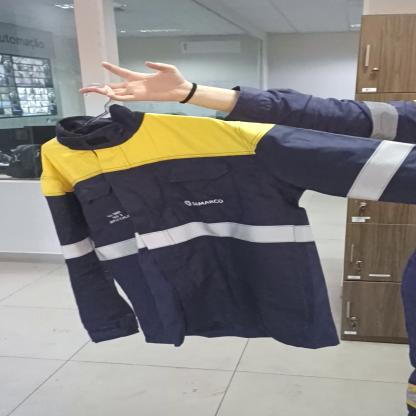C_eletrica: (36, 117, 416, 348)
